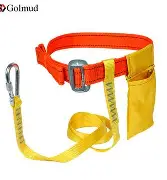safety belt2: (3, 30, 157, 155)
